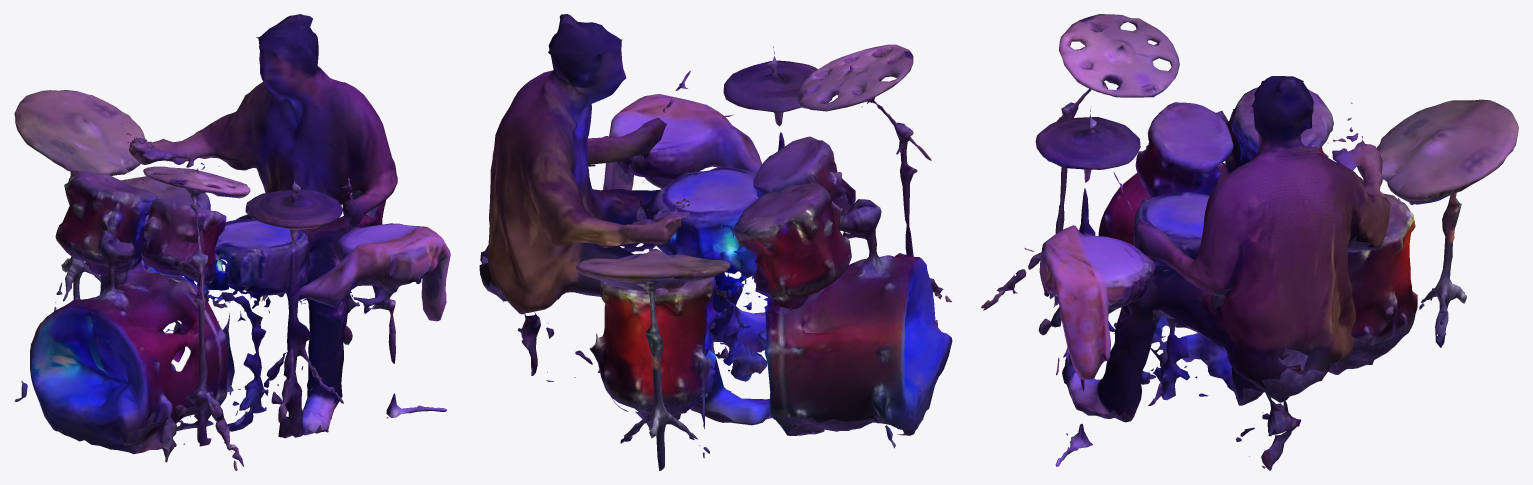
Rendered from fede_low_poly.glb.
3 views of the same model, side by side, from view 1: azimuth 30°, elevation 25°; view 2: azimuth 150°, elevation 25°; view 3: azimuth 270°, elevation 25° (orthographic). The views are drawn at different scales.
Bounding box in the file's own units: 2.55 × 2.27 × 2.96.
11 materials, 11 textured.
